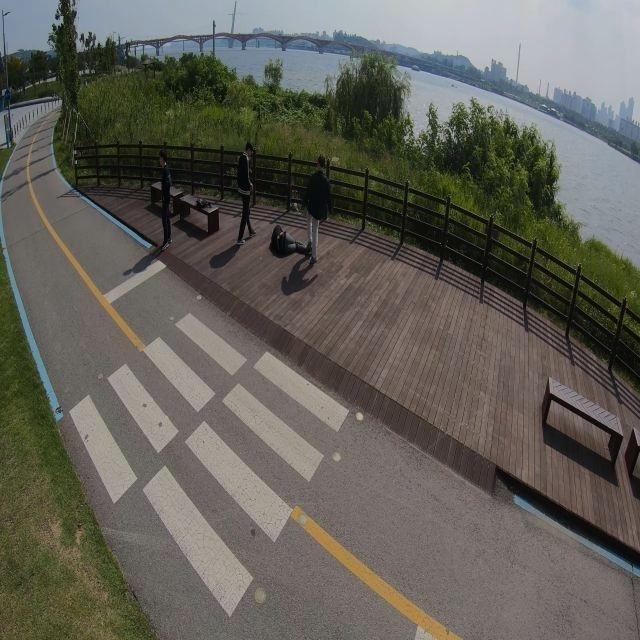fight: (269, 154, 330, 263)
non-fight: (235, 140, 257, 243), (157, 149, 175, 247)
